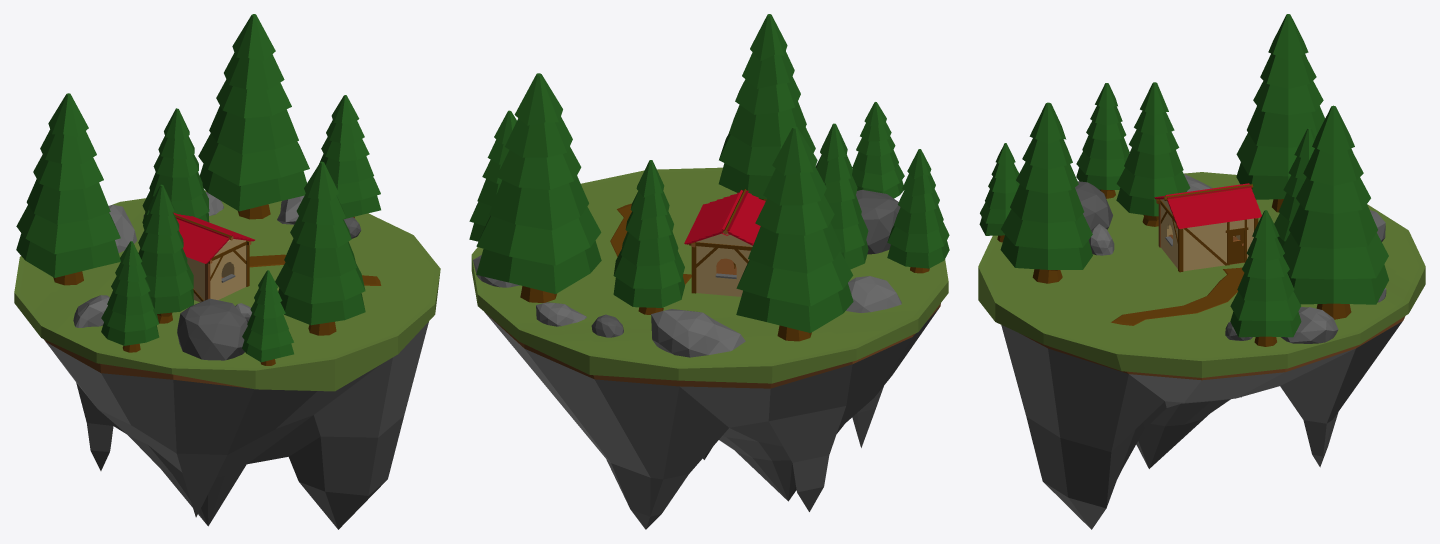
File: Scenery.fbx
3 views of the same model, side by side, from view 1: azimuth 30°, elevation 25°; view 2: azimuth 150°, elevation 25°; view 3: azimuth 270°, elevation 25° (orthographic). The views are drawn at different scales.
Parts seen in each view (by area): view 1: Island, Pine1.002, Pine1, Pine2, Pine3, House, Pine1.001, Pine2.001, Pine3.001, Icosphere, Pine1.003, Icosphere.004 (+3 smaller); view 2: Island, Pine1.002, Pine1, Pine2, Pine3.001, House, Pine2.001, Pine3, Icosphere.006, Pine1.003, Pine1.001, Icosphere (+4 smaller); view 3: Island, Pine1.002, Pine2, Pine1, House, Pine1.001, Pine3, Pine2.001, Pine1.003, Cube, Pine3.001, Icosphere.008 (+2 smaller).
Part boxes in pixels (x1,y1,x2,y2): Island: [14, 190, 440, 529]; Pine1.002: [198, 14, 309, 219]; Pine1: [16, 93, 120, 285]; Pine2: [275, 161, 365, 335]; Pine3: [138, 184, 193, 323]; House: [173, 212, 254, 302]; Pine1.001: [319, 95, 380, 219]; Pine2.001: [101, 241, 159, 352]; Pine3.001: [142, 108, 209, 224]; Icosphere: [177, 298, 247, 360]; Pine1.003: [242, 270, 293, 365]; Icosphere.004: [73, 295, 109, 327]; Island: [471, 167, 948, 529]; Pine1.002: [476, 73, 601, 302]; Pine1: [736, 126, 853, 341]; Pine2: [718, 14, 815, 201]; Pine3.001: [613, 160, 684, 314]; House: [684, 189, 765, 296]; Pine2.001: [887, 149, 949, 273]; Pine3: [815, 123, 868, 269]; Icosphere.006: [651, 309, 745, 357]; Pine1.003: [852, 102, 904, 198]; Pine1.001: [469, 110, 516, 241]; Icosphere: [856, 189, 900, 254]; Island: [978, 172, 1425, 529]; Pine1.002: [1282, 105, 1388, 319]; Pine2: [1000, 102, 1092, 283]; Pine1: [1236, 14, 1324, 212]; House: [1154, 183, 1261, 272]; Pine1.001: [1230, 210, 1301, 346]; Pine3: [1116, 82, 1190, 226]; Pine2.001: [1076, 83, 1129, 198]; Pine1.003: [979, 143, 1019, 242]; Cube: [1111, 267, 1244, 325]; Pine3.001: [1274, 128, 1315, 247]; Icosphere.008: [1281, 307, 1338, 343].
Size of the model in its own units: 3776 by 4090 by 3776.
